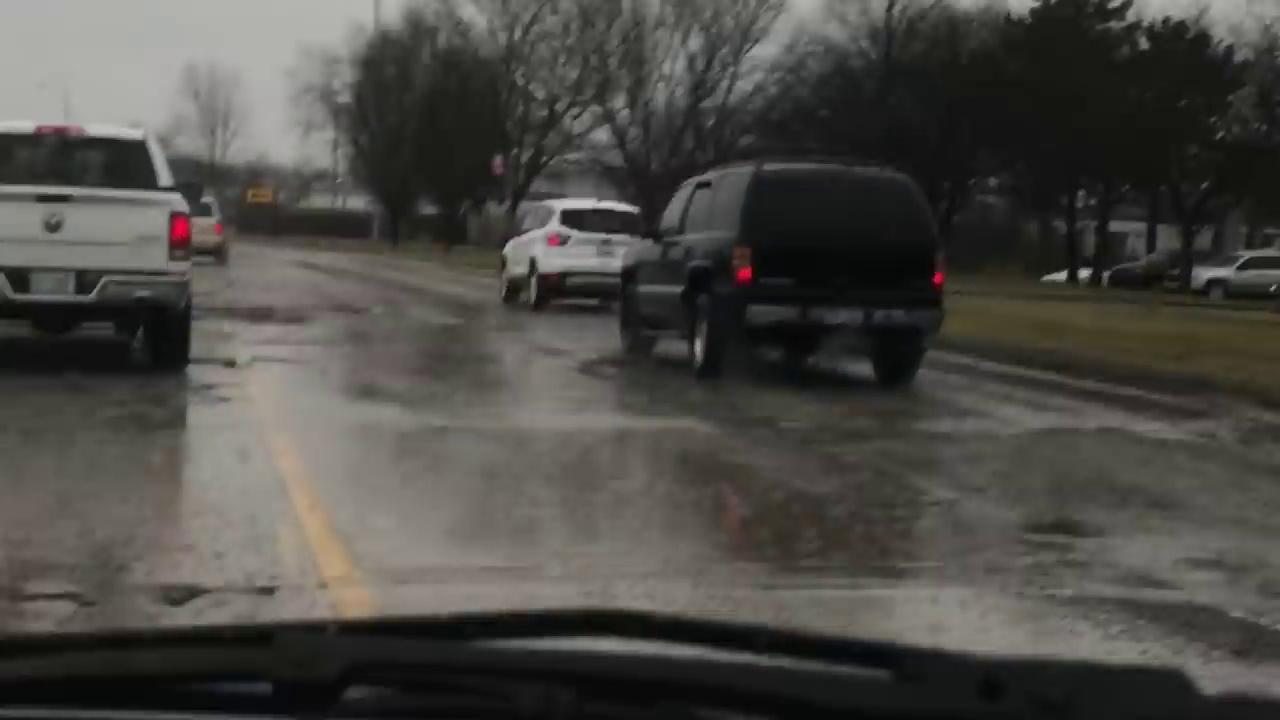pothole: (158, 584, 210, 606), (21, 590, 83, 601)
